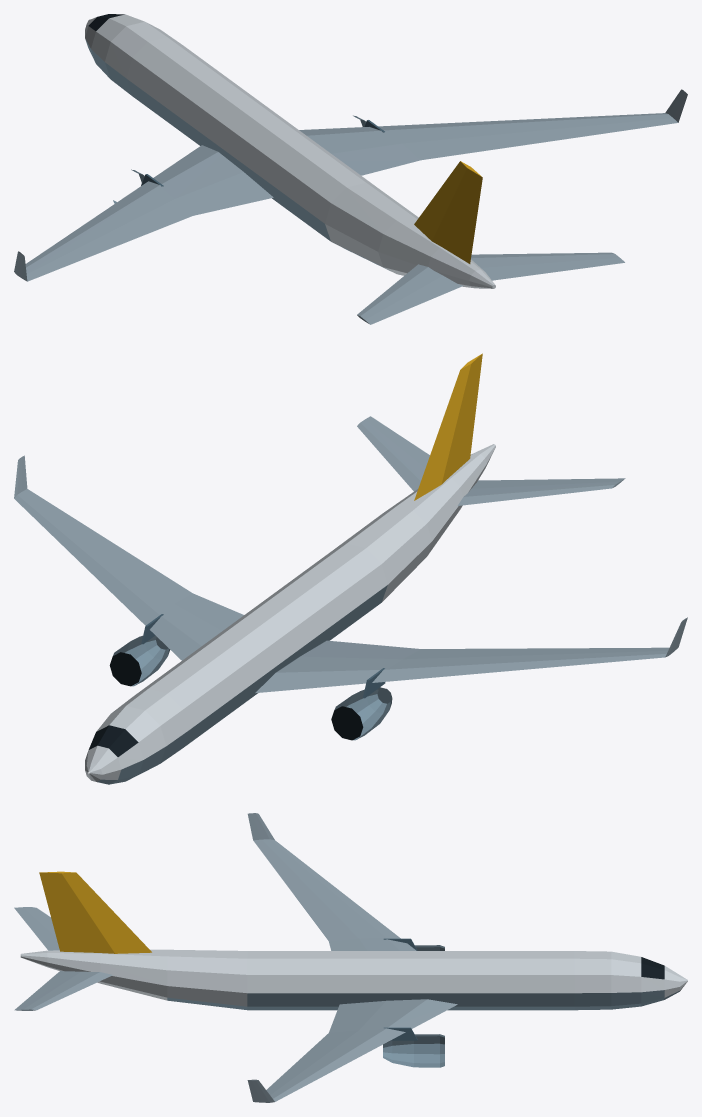
3 views of the same model, one above another, from view 1: azimuth 30°, elevation 25°; view 2: azimuth 150°, elevation 25°; view 3: azimuth 270°, elevation 25° (orthographic). The views are drawn at different scales.
Visible parts, largest first — view 1: lod0; view 2: lod0; view 3: lod0.
Part boxes in pixels (box(x1,y1,x2,y2)): lod0: box(14, 14, 687, 324); lod0: box(14, 353, 687, 784); lod0: box(14, 813, 687, 1102).
Size of what is drawn, in the model's own units: 0.9358 by 0.2432 by 1.
